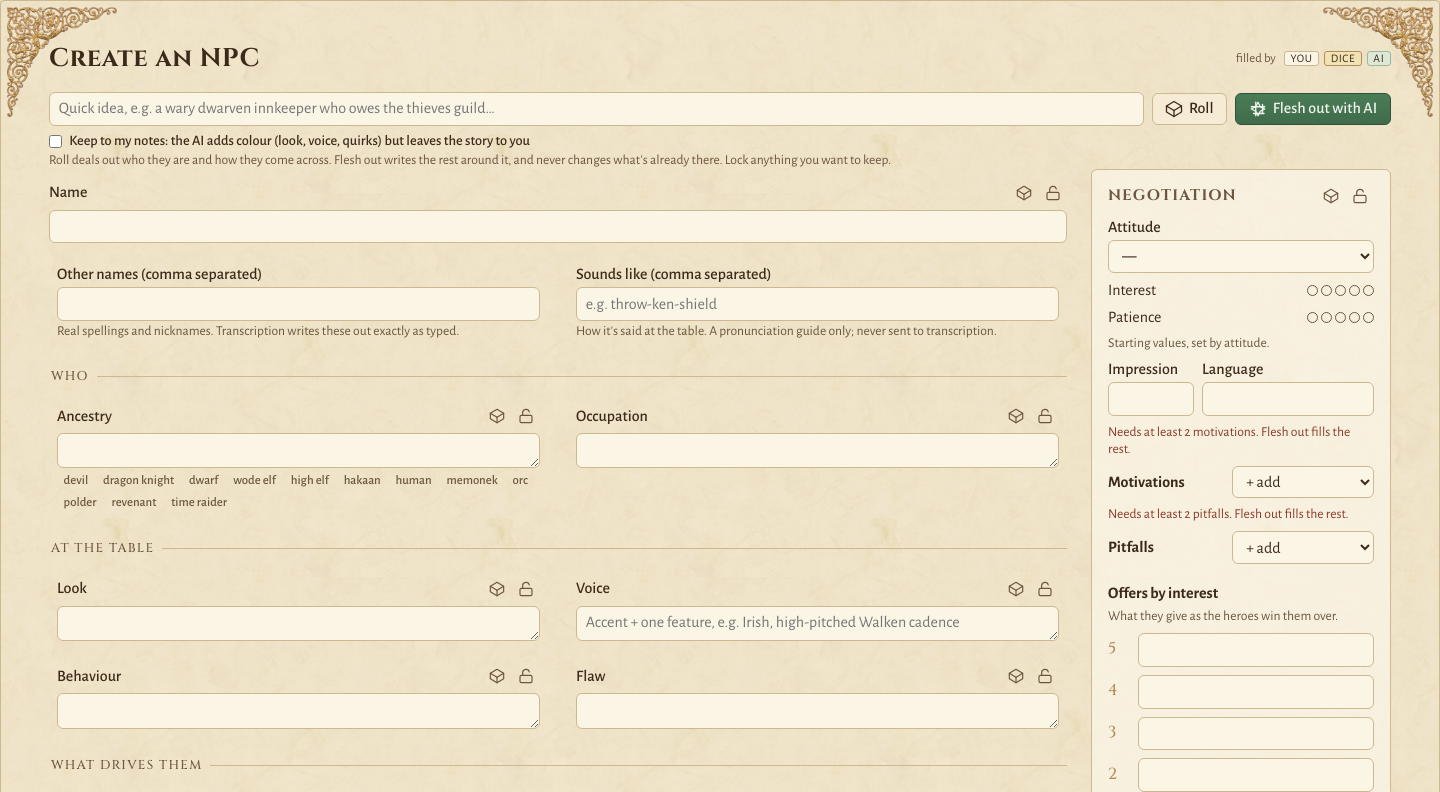
a locked field can't be re-rolled
This screenshot has width=1440, height=792.
In the text box labelled "Voice": (818, 623) [576,606,1059,641], type "whispers"
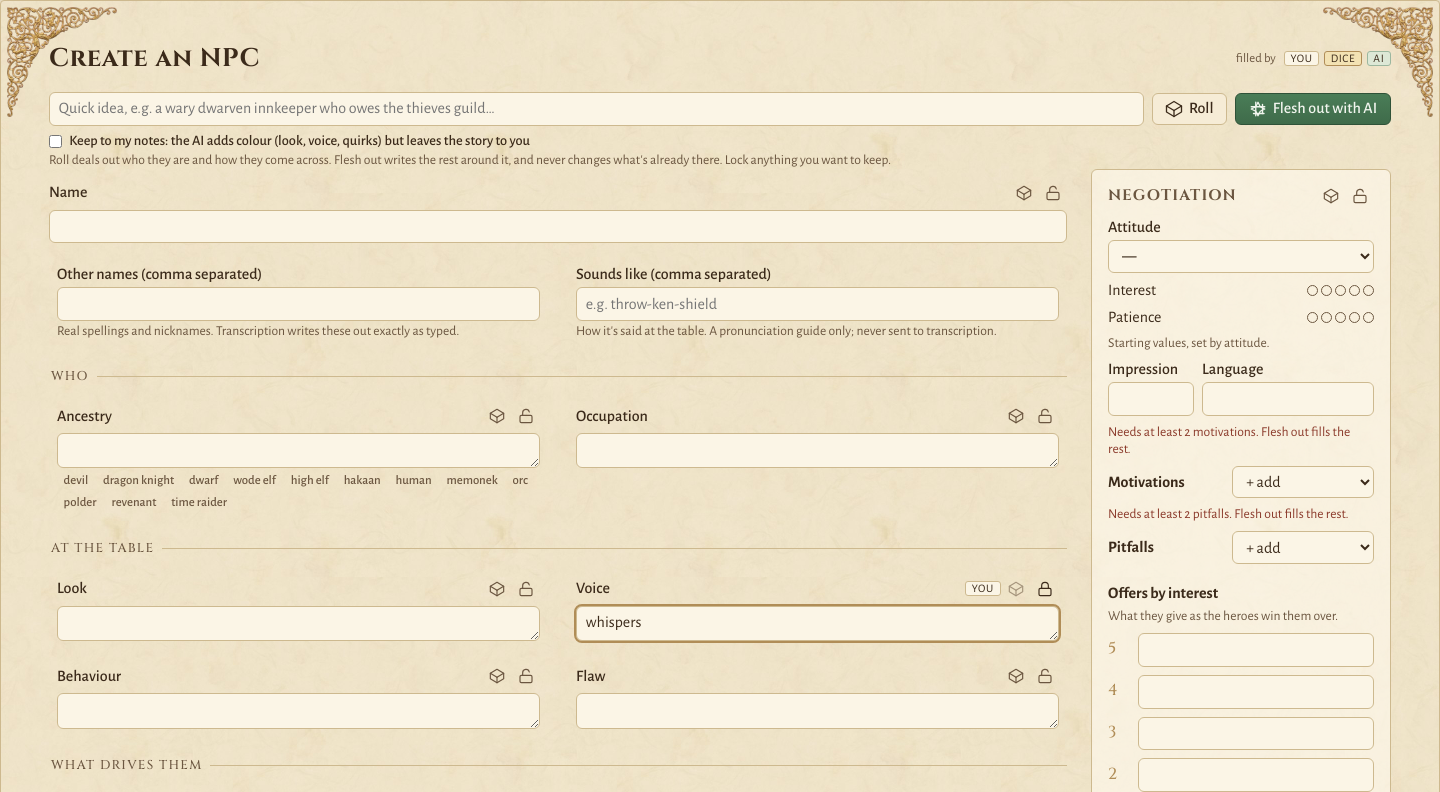
Expected: the button named "Re-roll Voice" is disabled, [1002,575,1030,603]
Click the button named "Unlock Voice": (1045, 589) [1031,575,1059,603]
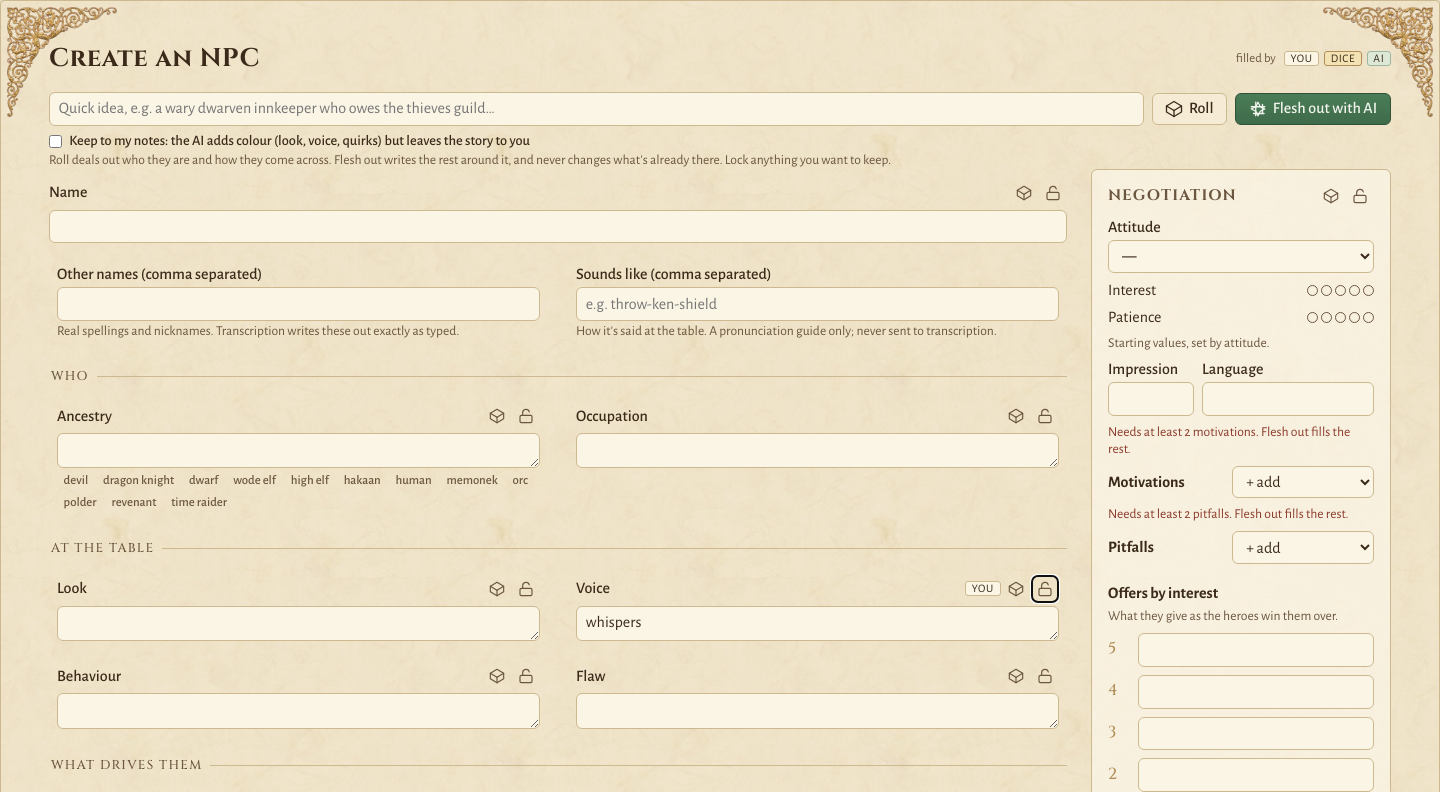
Expected: the button named "Re-roll Voice" is enabled, [1002,575,1030,603]
